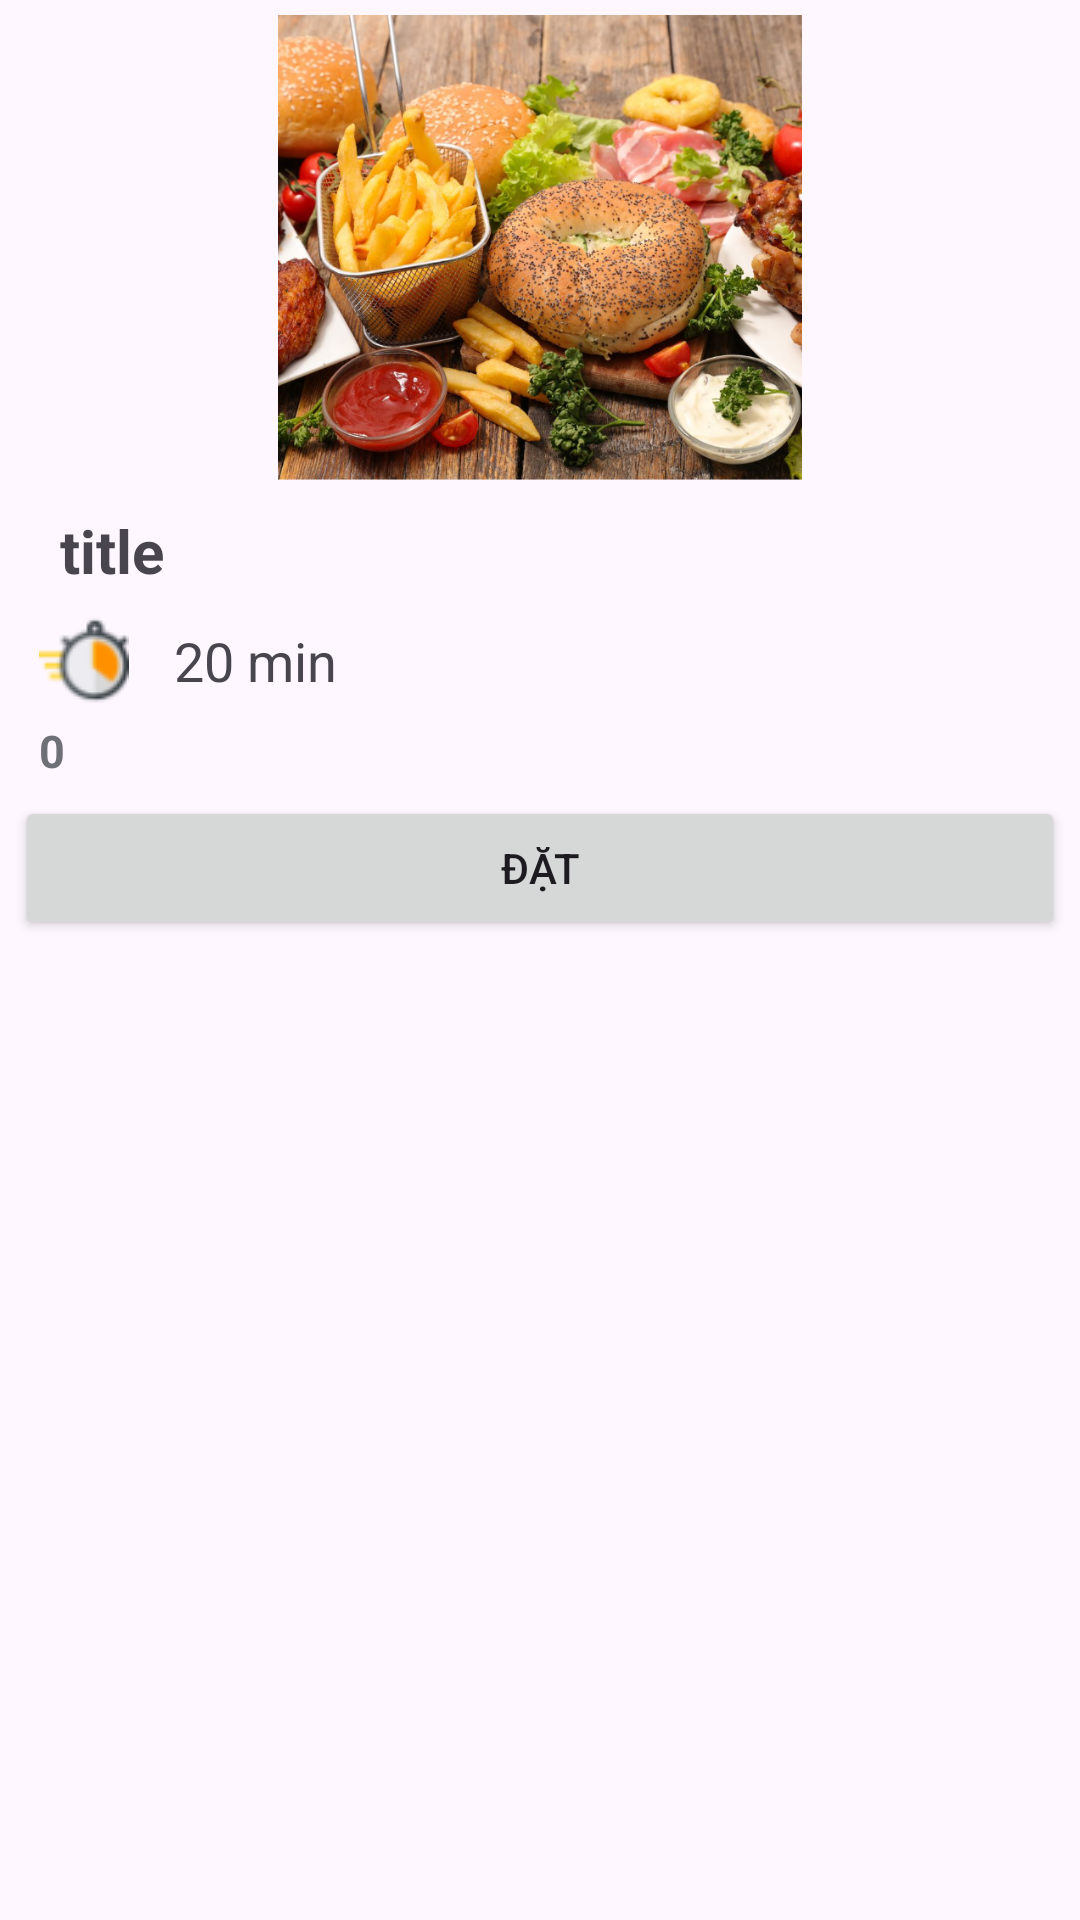

Icon bounding boxes for this 1080px x 1920px phone screenshot, format (x1, y1, x2, y2):
time: (39, 620, 129, 701)
